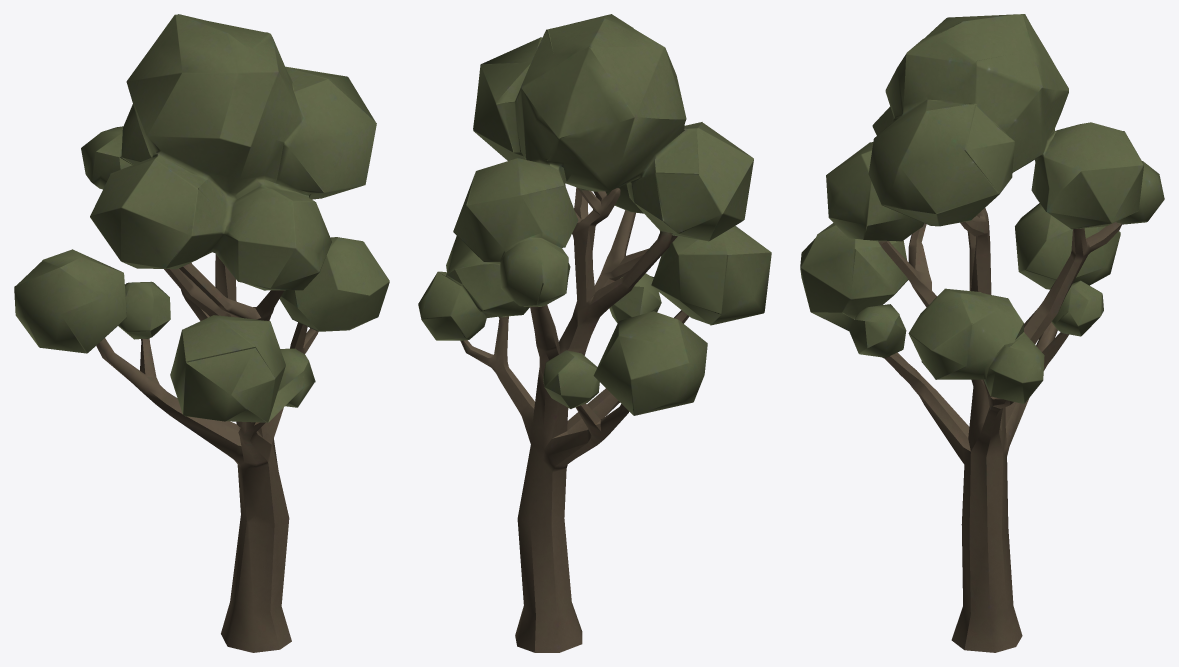
The picture shows the model from 3 angles, left to right: view 1: azimuth 30°, elevation 25°; view 2: azimuth 150°, elevation 25°; view 3: azimuth 270°, elevation 25°; orthographic projection. The views are drawn at different scales.
Parts seen in each view (by area): view 1: ddfd6f9a-55cf-441c-a266-cad3ba0220d3_1; view 2: ddfd6f9a-55cf-441c-a266-cad3ba0220d3_1; view 3: ddfd6f9a-55cf-441c-a266-cad3ba0220d3_1.
Part boxes in pixels (x1=…): ddfd6f9a-55cf-441c-a266-cad3ba0220d3_1: x1=14, y1=14, x2=389, y2=652; ddfd6f9a-55cf-441c-a266-cad3ba0220d3_1: x1=418, y1=14, x2=771, y2=652; ddfd6f9a-55cf-441c-a266-cad3ba0220d3_1: x1=800, y1=14, x2=1164, y2=652.
Bounding box in the file's own units: 0.5122 × 0.9951 × 0.5492.
1 material, 1 textured.
